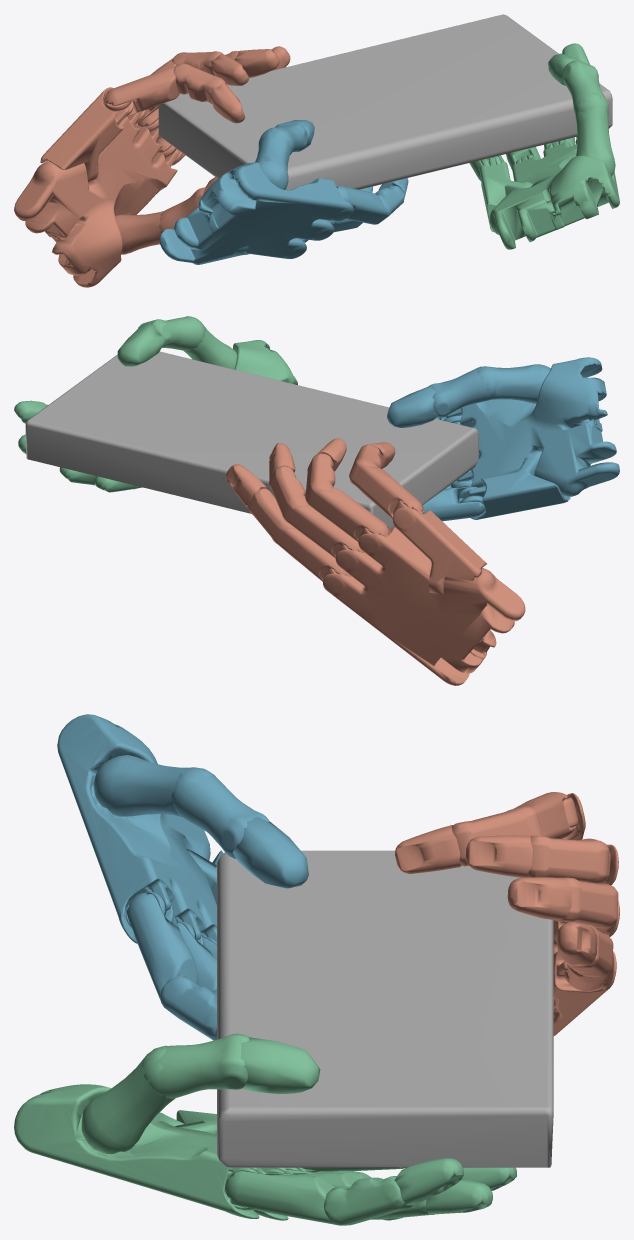
3 views of the same model, one above another, from view 1: azimuth 30°, elevation 25°; view 2: azimuth 150°, elevation 25°; view 3: azimuth 270°, elevation 25° (orthographic). The views are drawn at different scales.
Size of the model in its own units: 0.3962 by 0.1537 by 0.2515.
